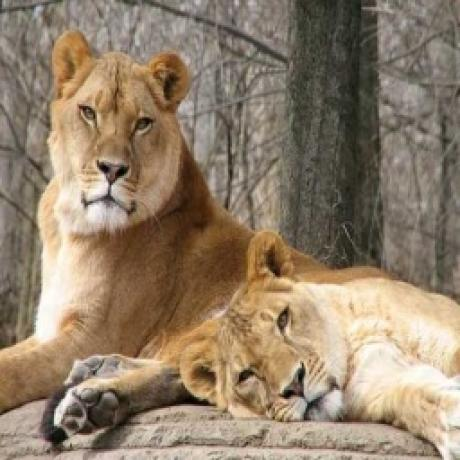Lion: (0, 24, 254, 436), (177, 224, 460, 460)
